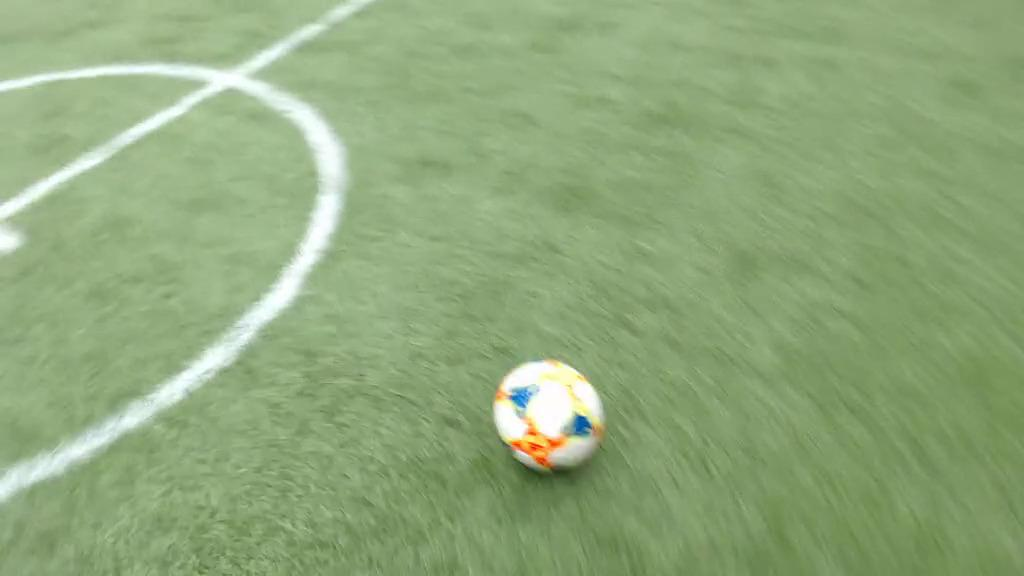ball: (494, 357, 604, 477)
